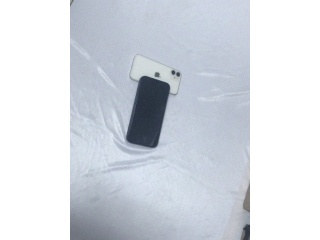phone: (125, 76, 171, 148), (128, 55, 182, 95)
